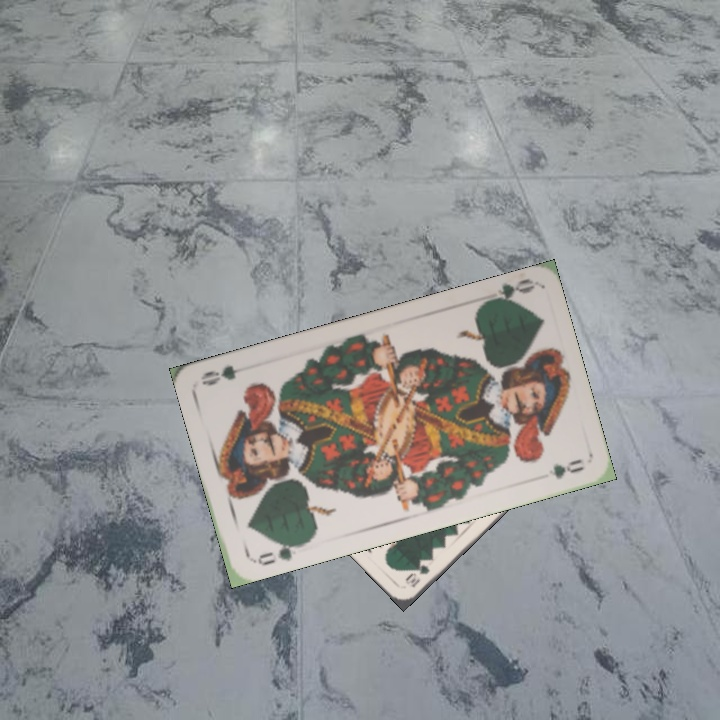G10: (401, 561, 432, 590)
GO: (478, 274, 535, 309), (248, 538, 306, 569)
